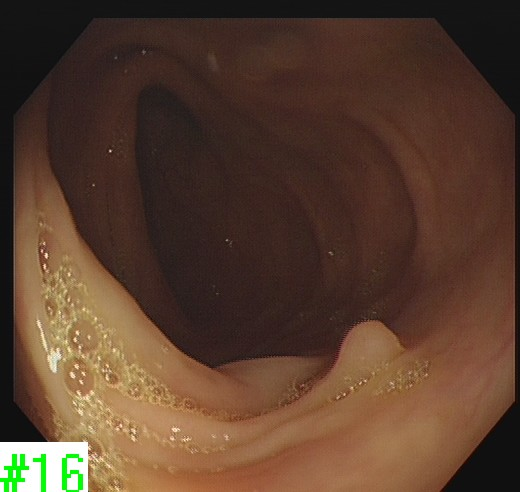adenoma: (332, 318, 408, 380)
